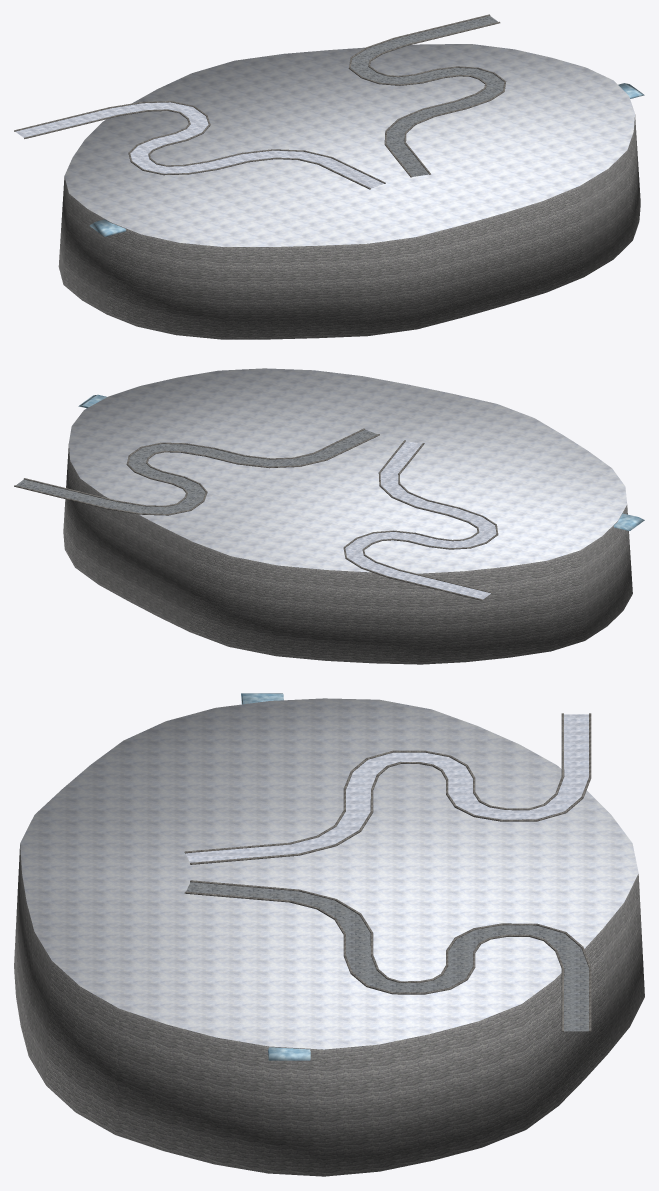
Rendered from 12_LodoweWrotaBoreasza_teren.glb.
3 renders of one model, top to bottom at view 1: azimuth 30°, elevation 25°; view 2: azimuth 150°, elevation 25°; view 3: azimuth 270°, elevation 25°, orthographic. The views are drawn at different scales.
Visible parts, largest first — view 1: snowfield, path_0.011, path_1.006, frozen_river; view 2: snowfield, path_0.011, path_1.006, frozen_river; view 3: snowfield, path_1.006, path_0.011, frozen_river.
Part boxes in pixels (box(x1,y1,x2,y2)): snowfield: box(58, 44, 640, 339); path_0.011: box(15, 102, 383, 188); path_1.006: box(350, 16, 504, 176); frozen_river: box(89, 83, 644, 236); snowfield: box(63, 368, 632, 664); path_0.011: box(345, 441, 496, 599); path_1.006: box(16, 429, 377, 513); frozen_river: box(78, 394, 644, 530); snowfield: box(14, 698, 644, 1176); path_1.006: box(186, 882, 588, 1031); path_0.011: box(185, 714, 588, 862); frozen_river: box(241, 693, 310, 1060).
Size of the model in its own units: 255 by 40.44 by 185.
Materials: 6 (6 with a texture image).
